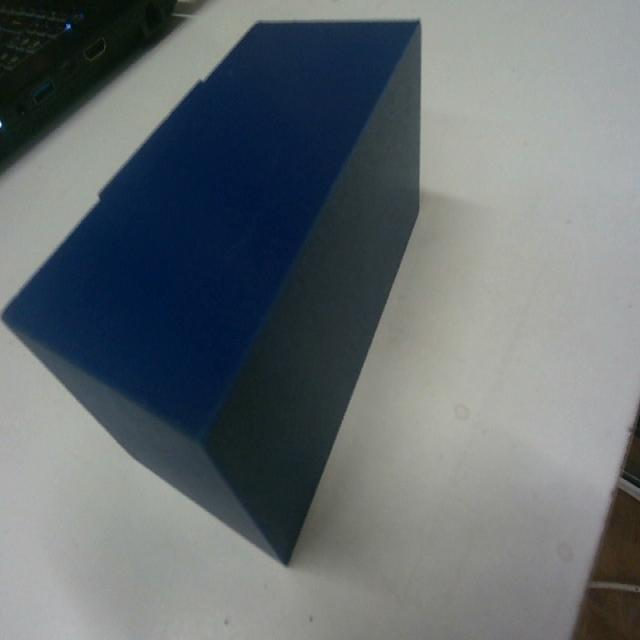Blue Cuboid: (1, 15, 424, 565)
